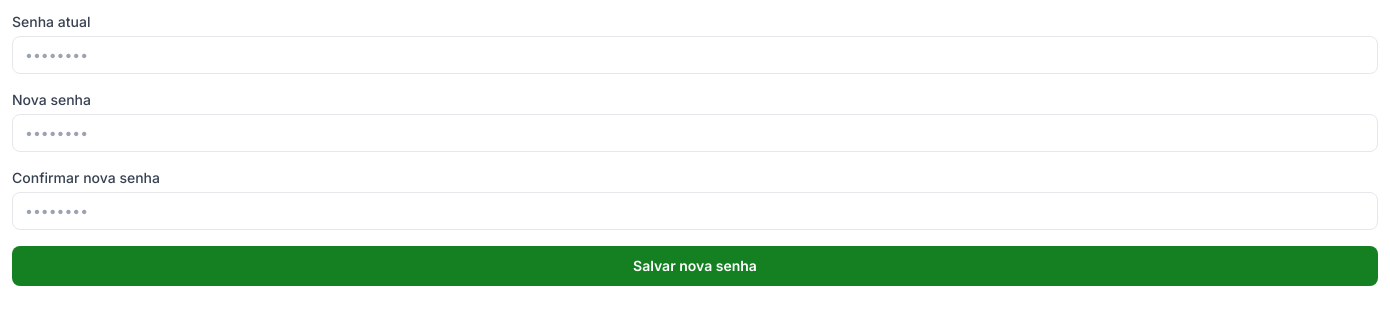
Scenario: ChangePasswordForm › should require the current password
In the password field labelled "Nova senha": (695, 133) 12,114 -> 1378,152, type "newsecret"
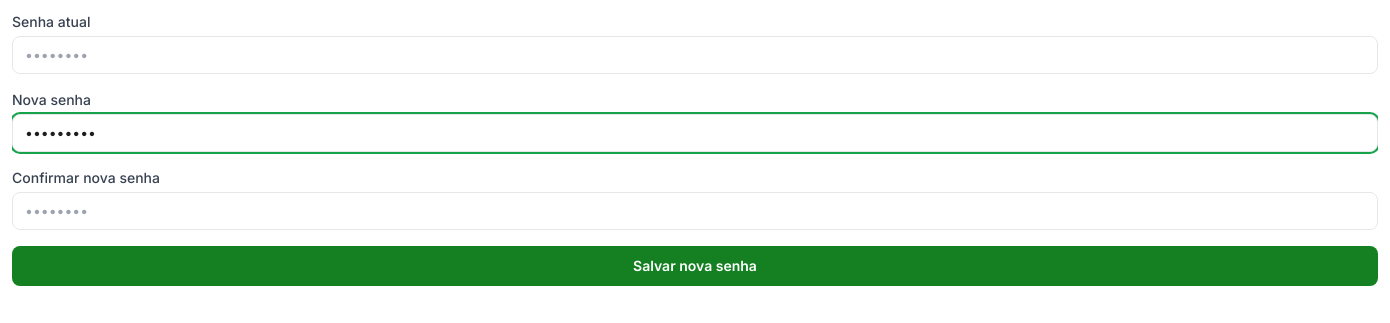
In the password field labelled "Confirmar nova senha": (695, 211) 12,192 -> 1378,230, type "newsecret"
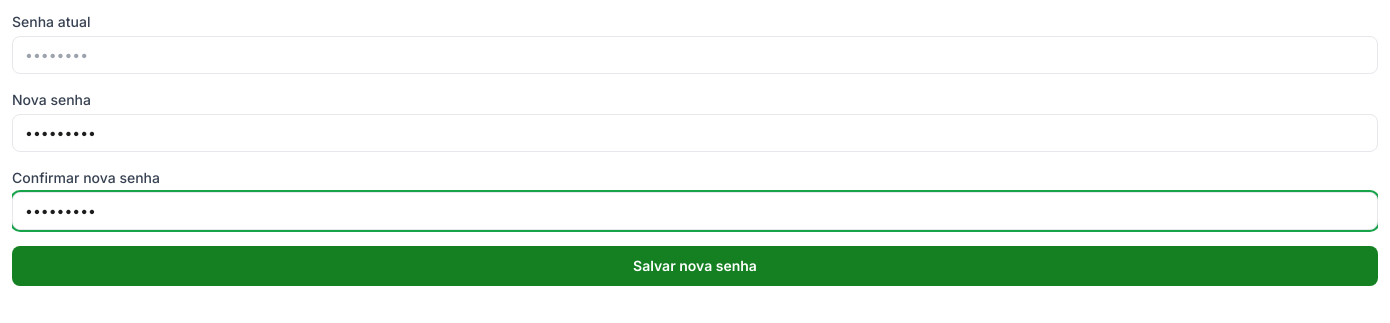
Click the button "Salvar nova senha": (695, 266) 12,246 -> 1378,286
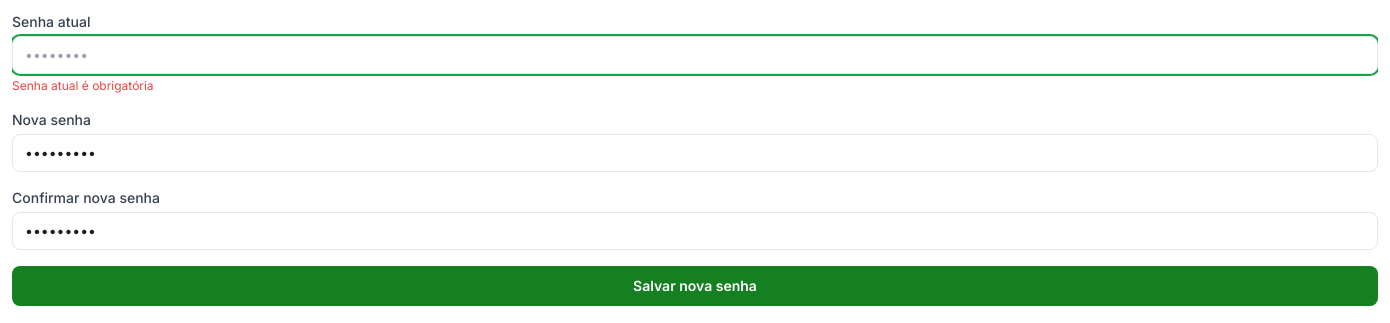
Check: the text "Senha atual é obrigatória" is shown, box 12,78 -> 154,93
